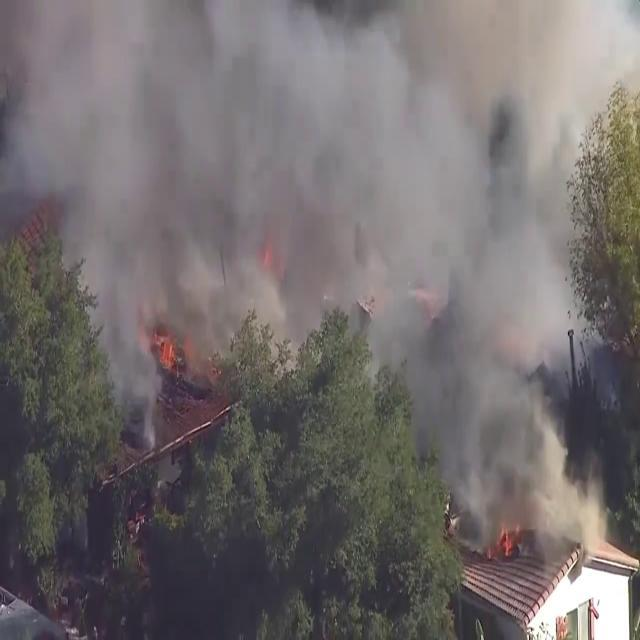Smoke: (2, 0, 628, 380), (334, 1, 626, 558)
